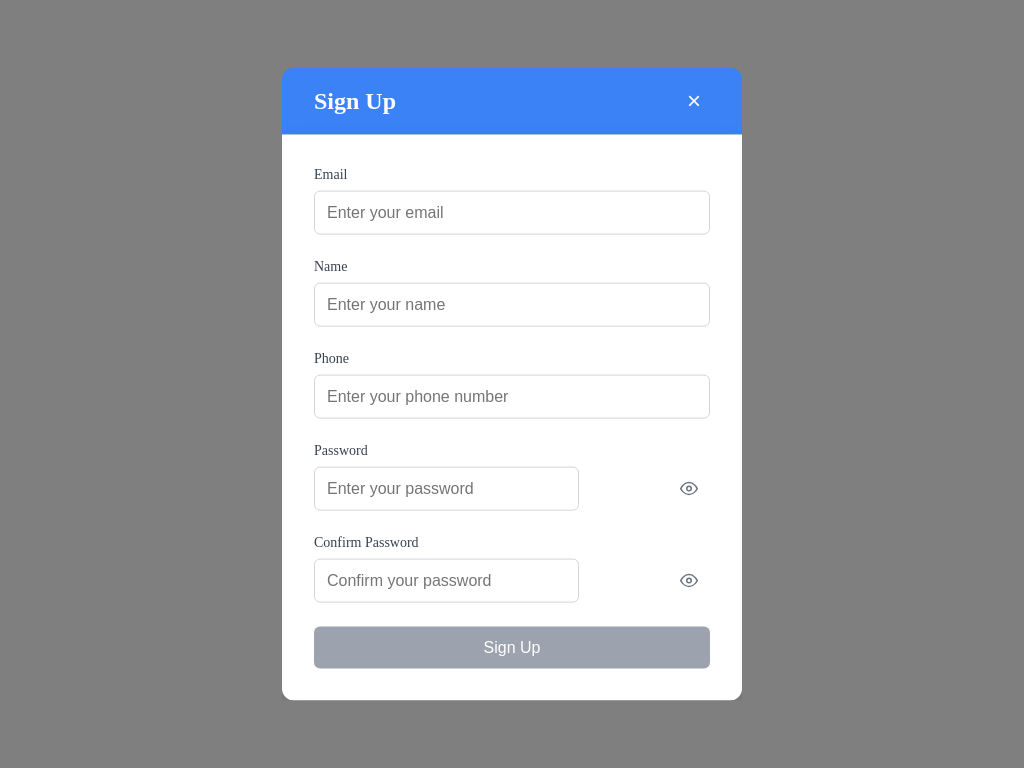
Test: Signup modal › renders the password checklist with unmet rules marked invalid, collapsing to a success message when all pass
Type "weak" into the password field labelled "Password" at (446, 488), box left=314, top=466, right=579, bottom=510
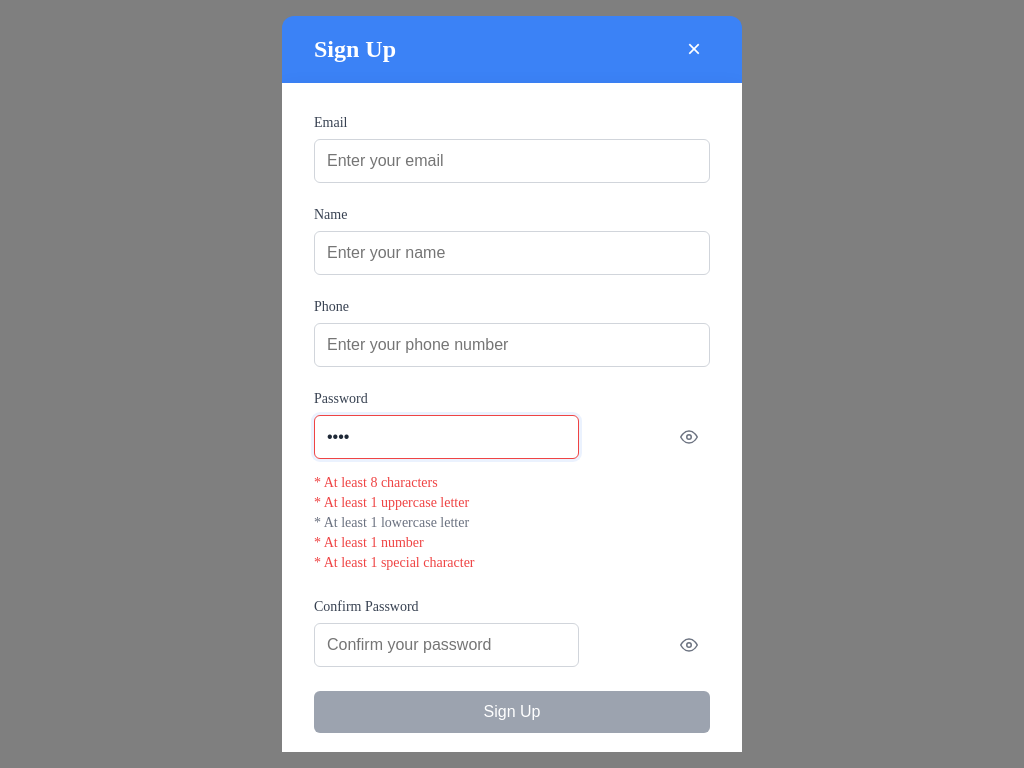
Expected: the text "* At least 8 characters" is shown, left=314, top=475, right=438, bottom=490
Clear the password field labelled "Password" at (446, 437), box left=314, top=415, right=579, bottom=459
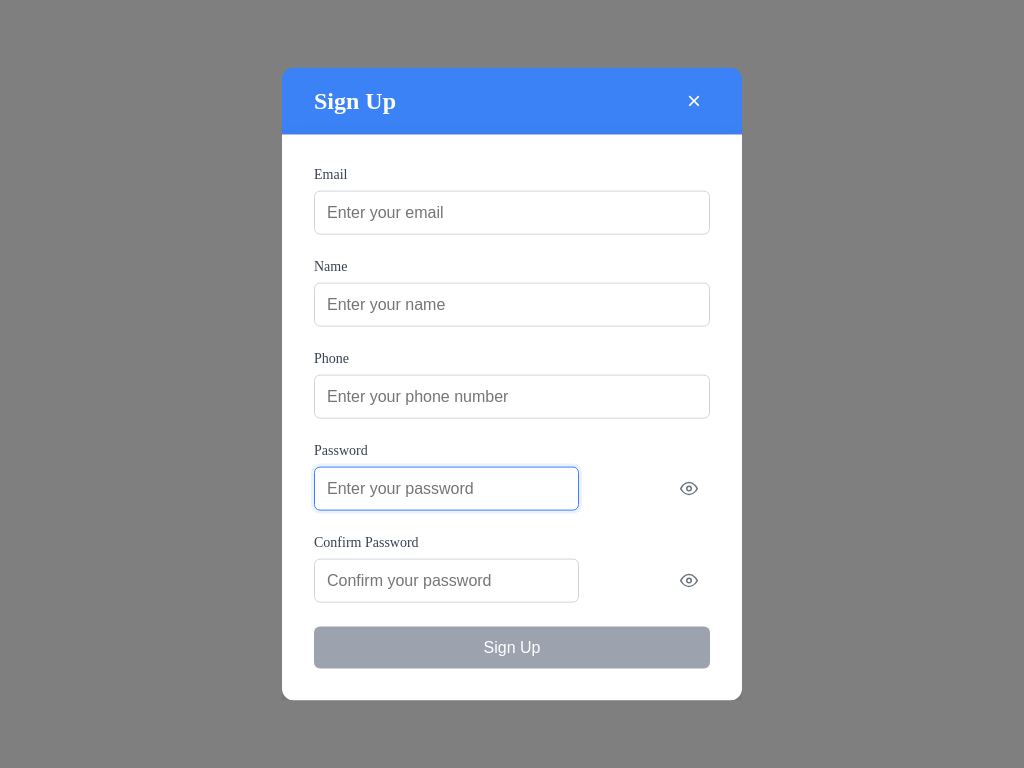
Type "Passw0rd!" into the password field labelled "Password" at (446, 488), box left=314, top=466, right=579, bottom=510
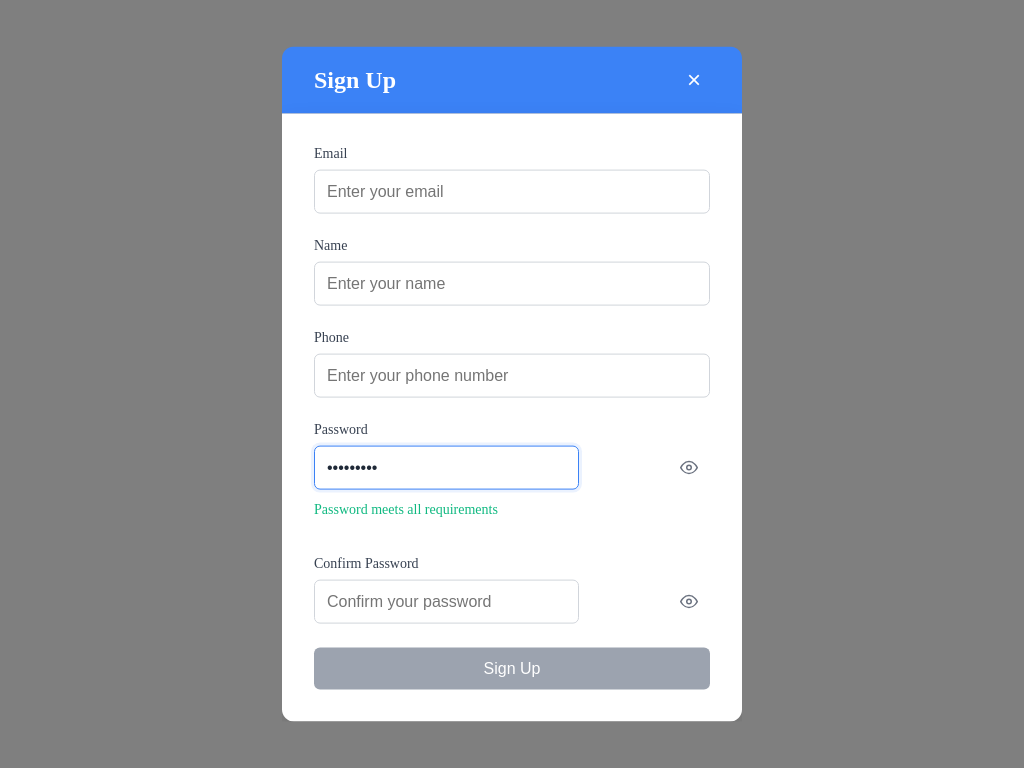
Expected: the text "* At least 8 characters" is not shown
Expected: the text "Password meets all requirements" is shown, left=314, top=501, right=498, bottom=516
